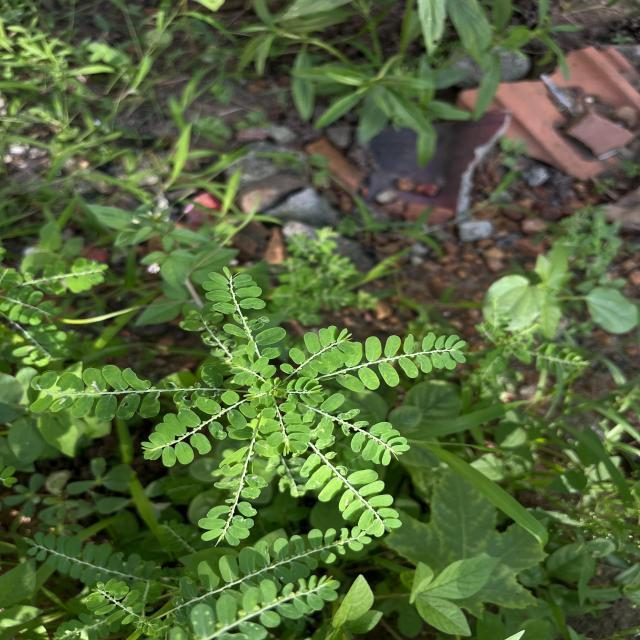Phyllanthus niruri: (170, 526, 375, 607), (298, 450, 404, 538), (138, 390, 256, 468), (333, 332, 470, 393), (26, 362, 164, 422), (202, 264, 284, 362), (314, 391, 411, 466), (280, 323, 352, 379), (256, 401, 311, 455)
